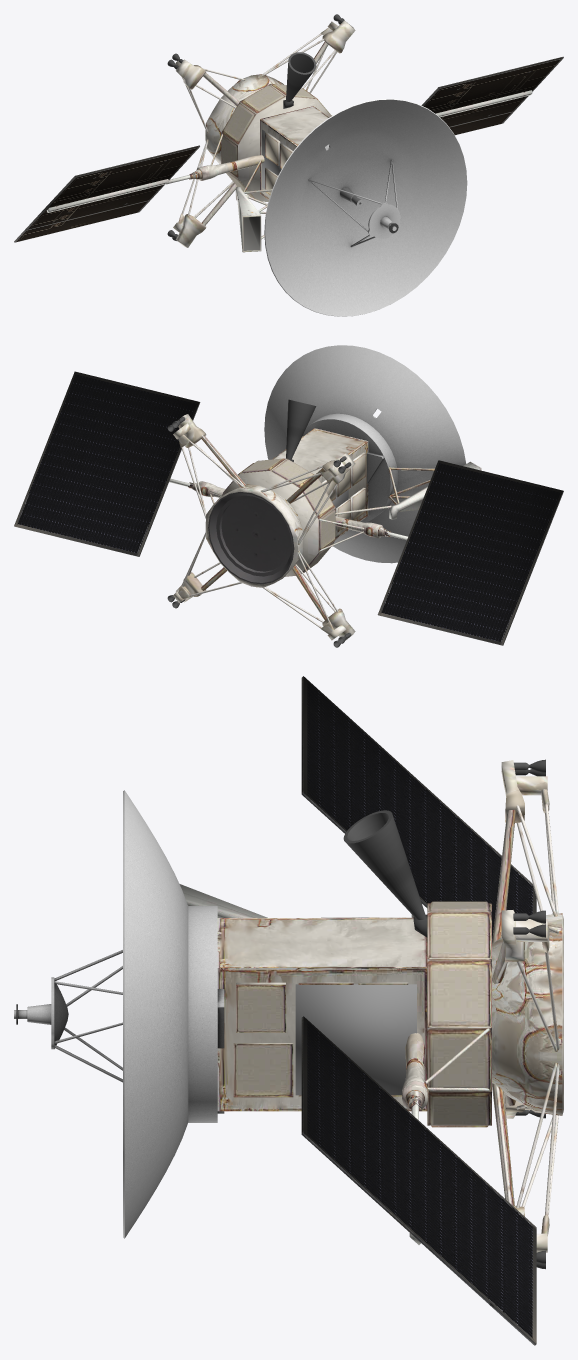
3 renders of one model, top to bottom at view 1: azimuth 30°, elevation 25°; view 2: azimuth 150°, elevation 25°; view 3: azimuth 270°, elevation 25°, orthographic. The views are drawn at different scales.
Visible parts, largest first — view 1: dish_etc, tex_01, aluminum; view 2: shiny_panel, tex_01, dish_etc, aluminum, aluminum.002; view 3: tex_01, shiny_panel, dish_etc, _root, aluminum, aluminum.002.
Boxes of the visible parts, <box> form: dish_etc: <box>264,98,467,316</box>; tex_01: <box>14,20,563,252</box>; aluminum: <box>286,52,316,101</box>; shiny_panel: <box>14,371,563,645</box>; tex_01: <box>14,402,563,645</box>; dish_etc: <box>264,345,466,563</box>; aluminum: <box>286,399,316,460</box>; aluminum.002: <box>167,417,351,647</box>; tex_01: <box>179,676,563,1345</box>; shiny_panel: <box>303,676,536,1343</box>; dish_etc: <box>14,790,224,1238</box>; _root: <box>295,984,416,1095</box>; aluminum: <box>343,810,426,919</box>; aluminum.002: <box>413,759,545,1269</box>.
Bounding box in the file's own units: 8.9 × 3.7 × 4.53.
